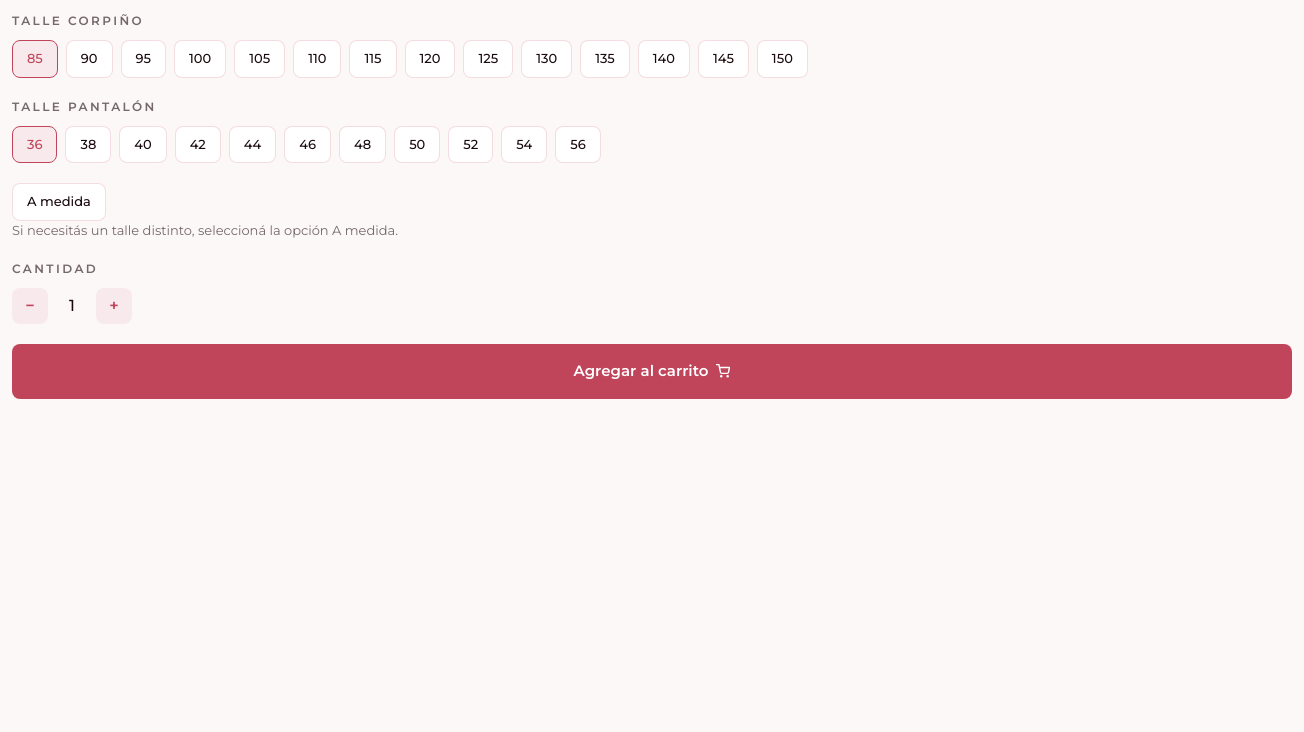
Scenario: AddToCart — standard category (sets) › clicking "A medida" hides selectors and shows measurement fields
Click the button "A medida": (59, 202) left=12, top=183, right=106, bottom=220
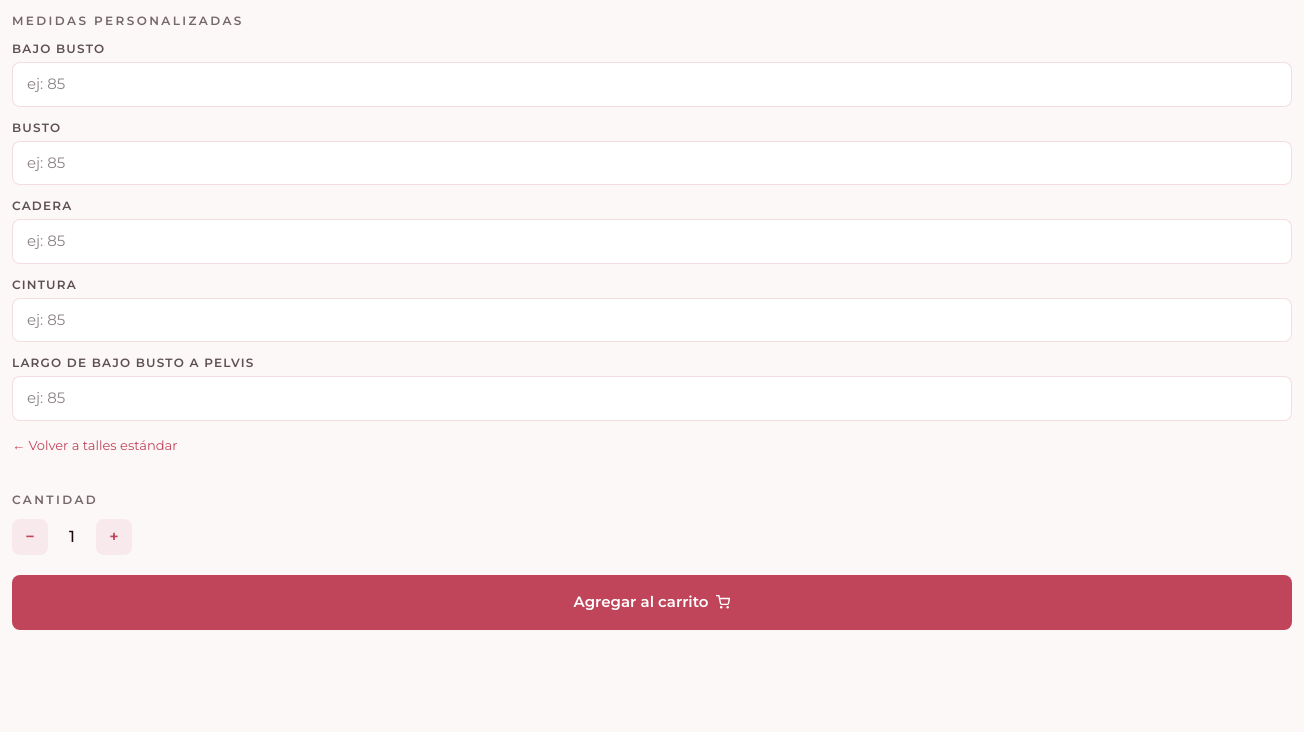
Expected: the heading "Talle corpiño" is gone
Expected: the heading "Talle pantalón" is gone
Expected: the text "Bajo busto" is shown, left=12, top=41, right=105, bottom=56
